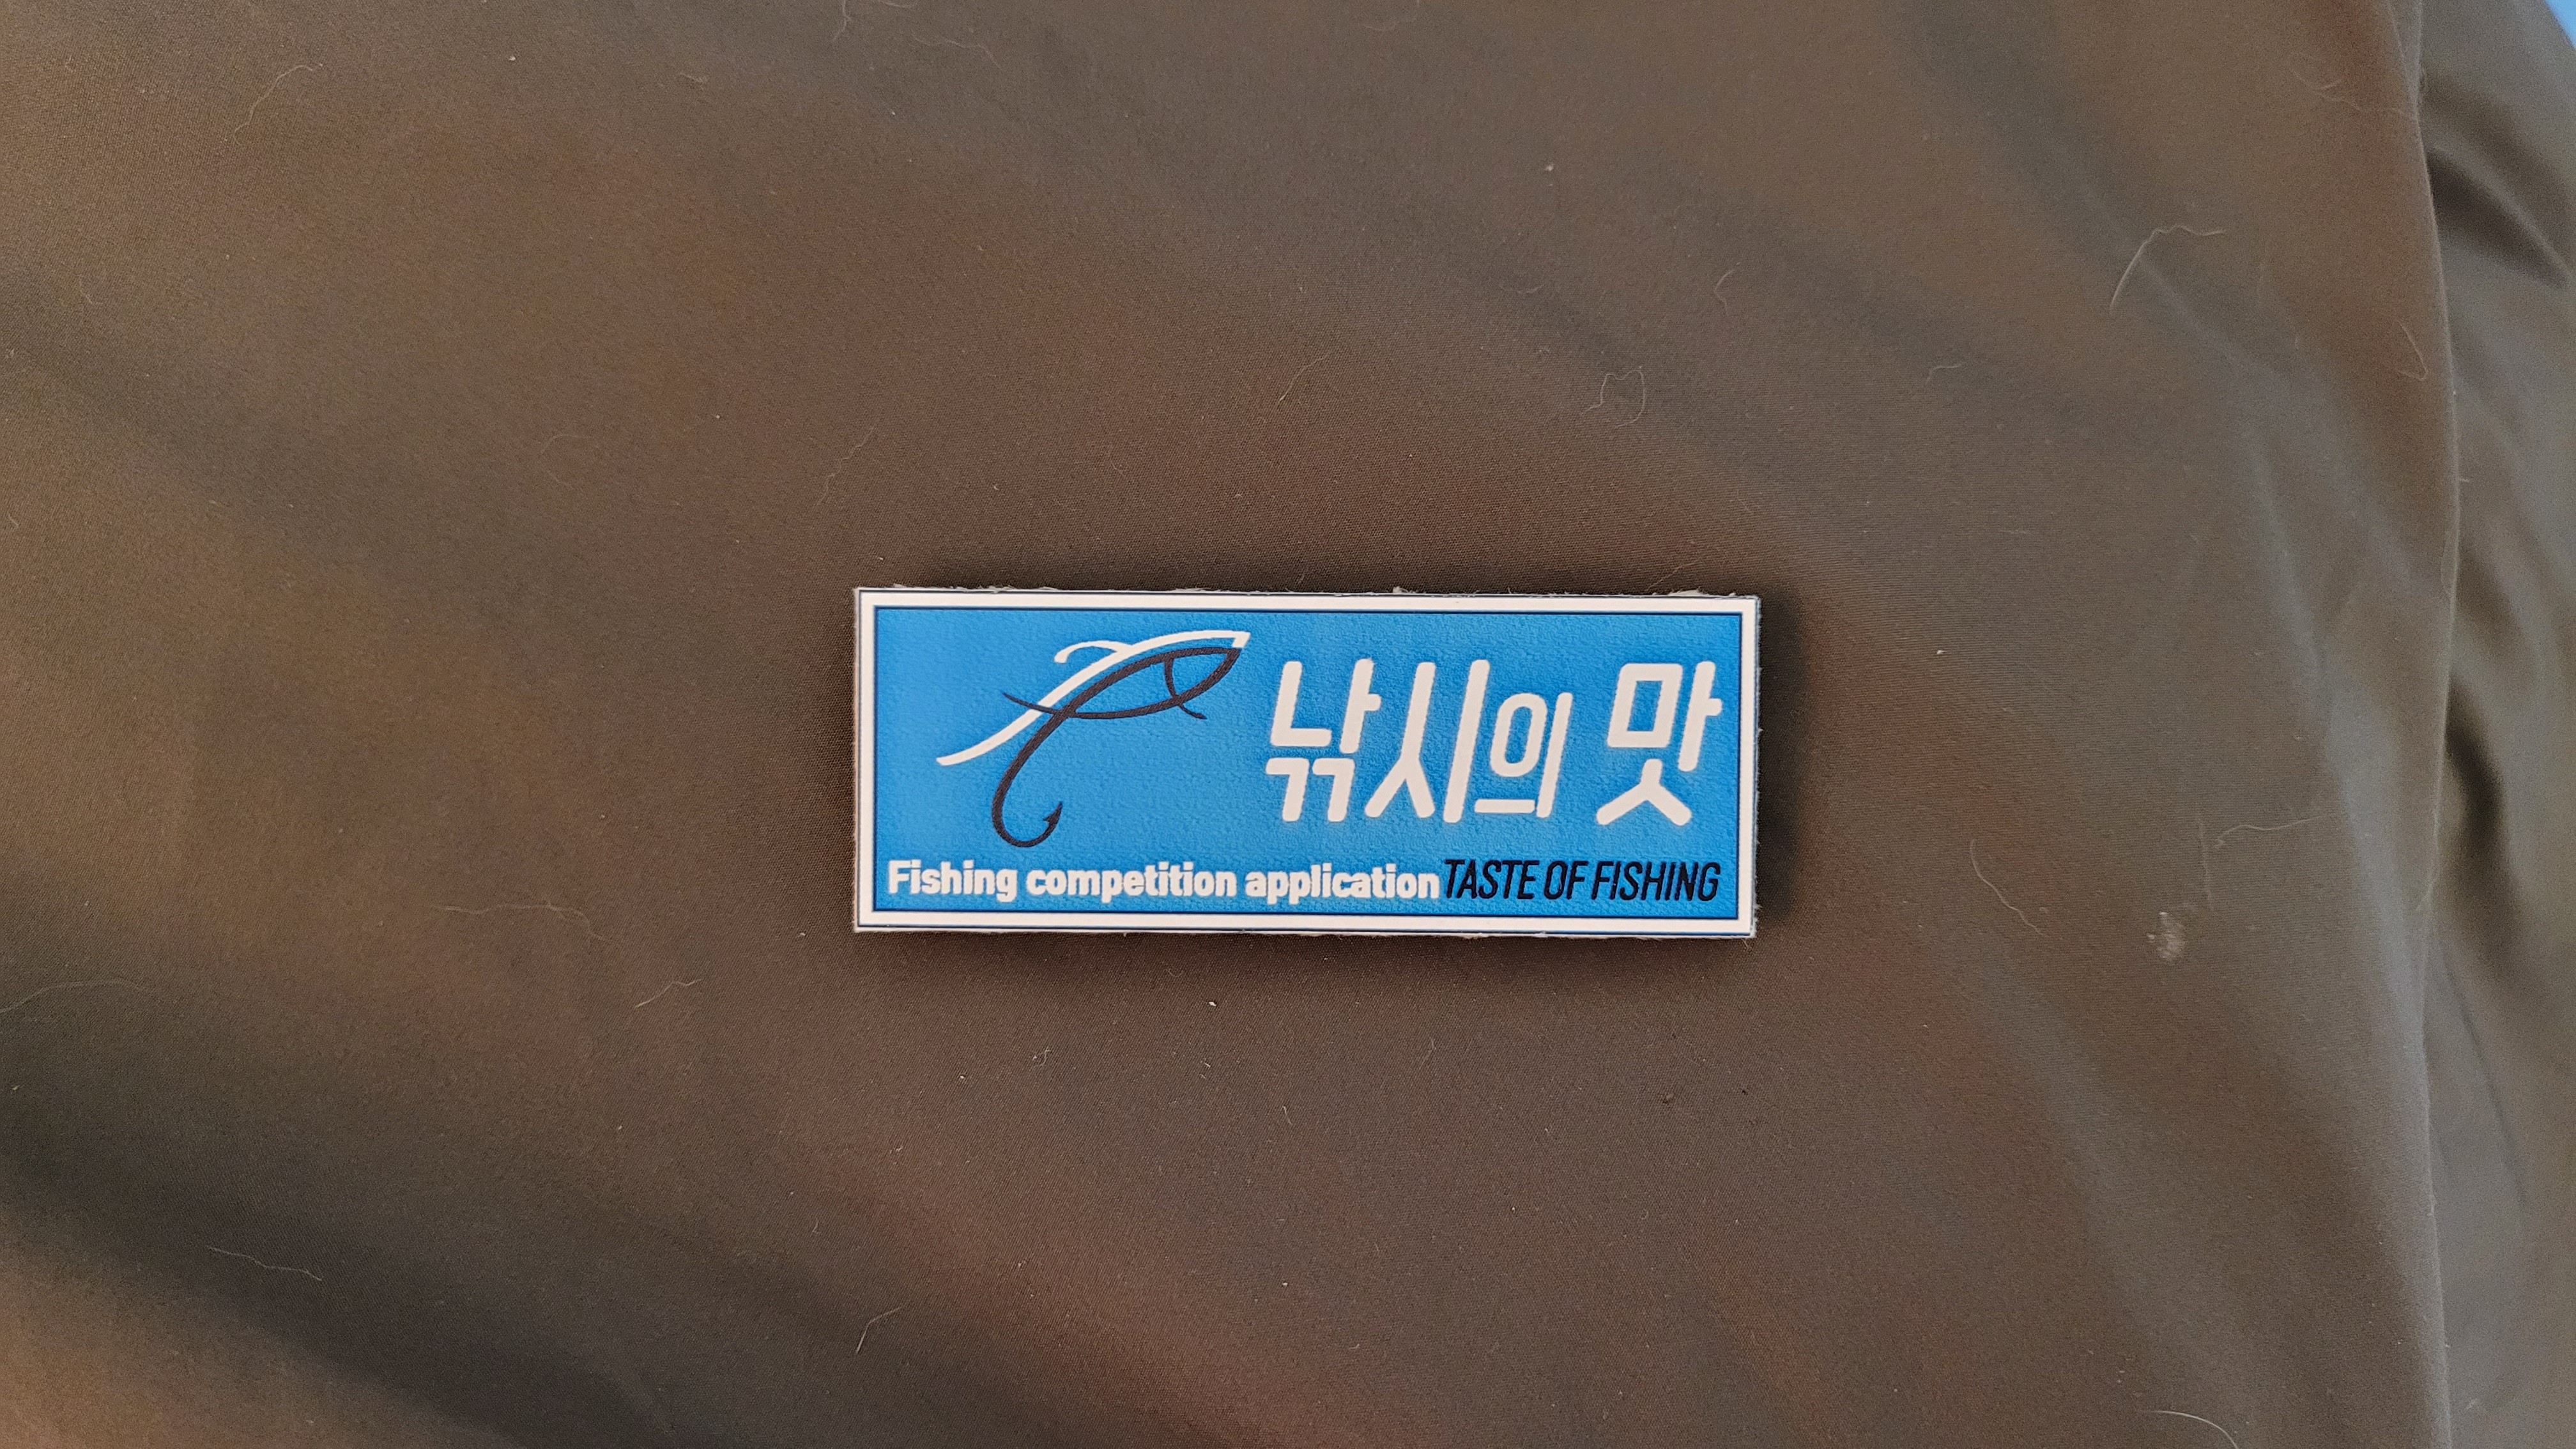tag: (853, 589, 1759, 938)
